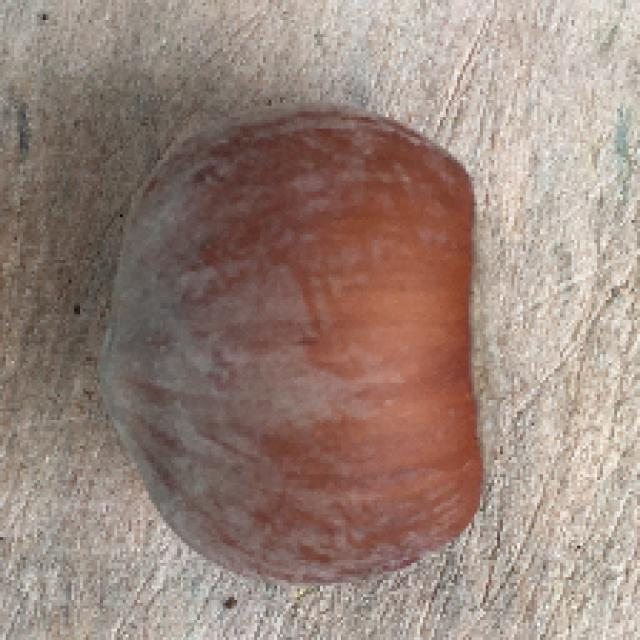qualityHazelnut: (99, 97, 507, 589)
